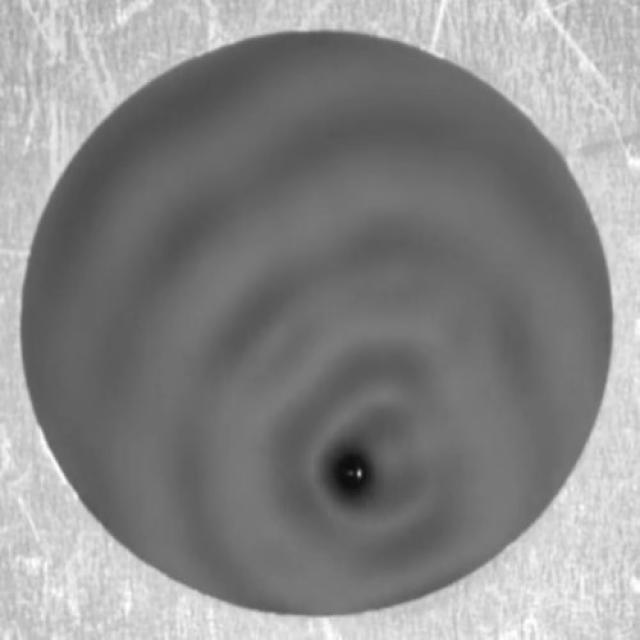droplet: (337, 459, 367, 494)
